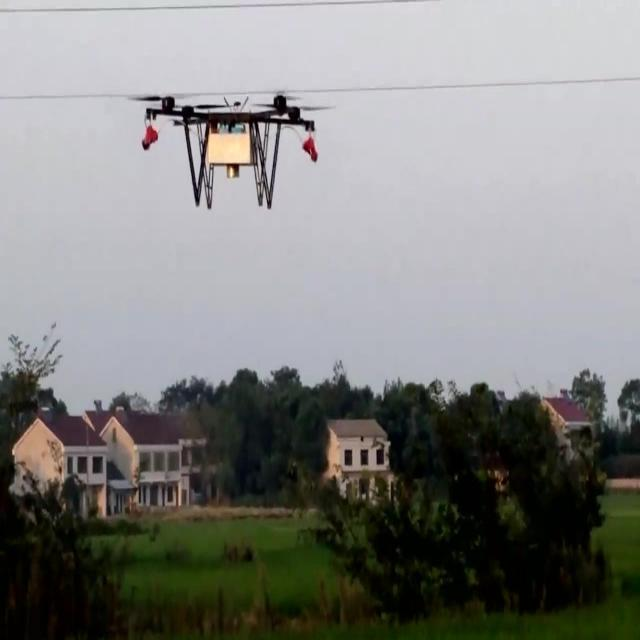UAV: (124, 89, 336, 209)
